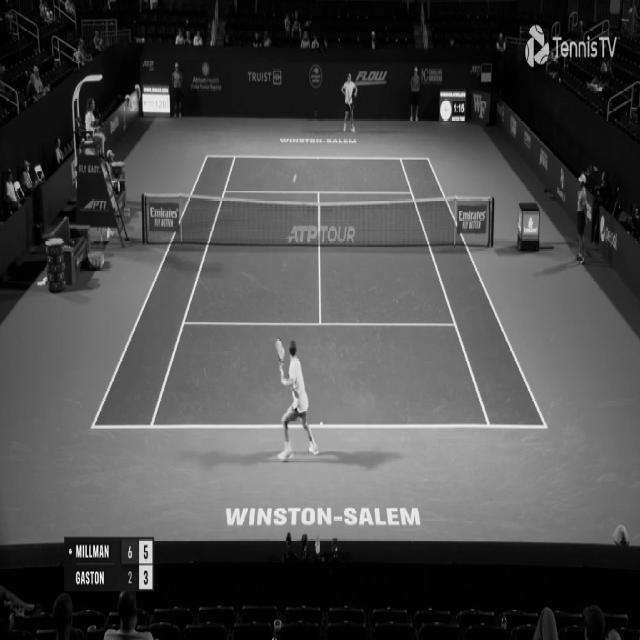tennis-court: (90, 155, 548, 428)
